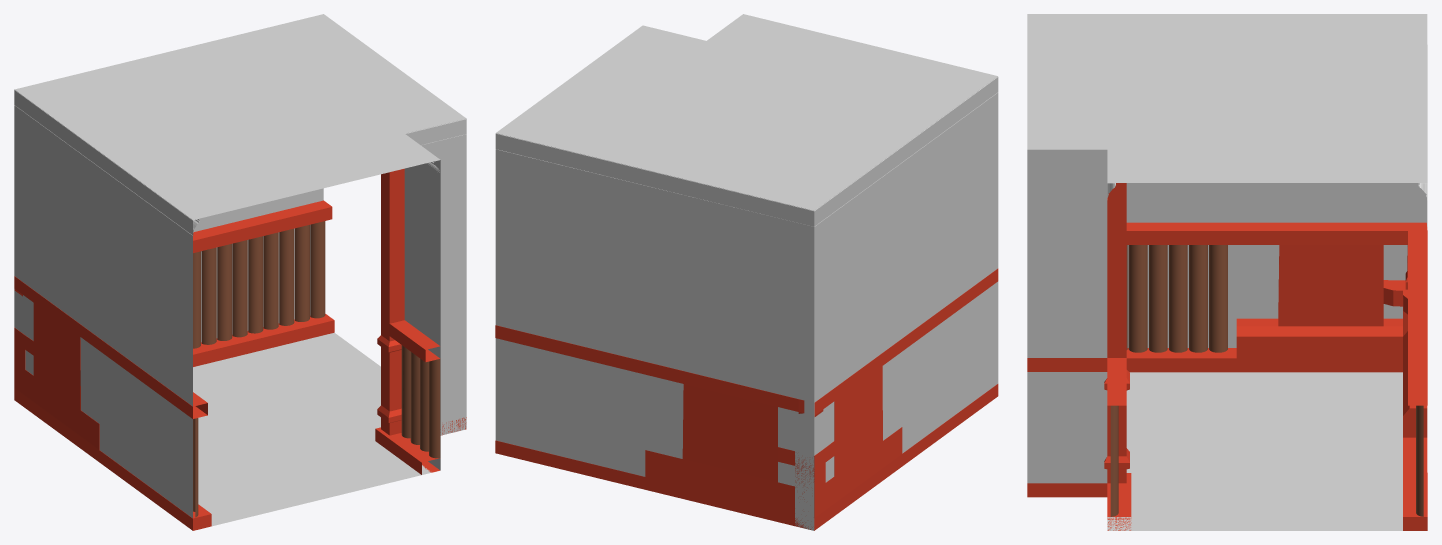
Rendered from Corner.fbx.
3 views of the same model, side by side, from view 1: azimuth 30°, elevation 25°; view 2: azimuth 150°, elevation 25°; view 3: azimuth 270°, elevation 25° (orthographic). The views are drawn at different scales.
Visible parts, largest first — view 1: Corner; view 2: Corner; view 3: Corner.
Boxes of the visible parts, x1,y1,x2,y2 form: Corner: (14,14,466,530); Corner: (495,14,998,530); Corner: (1027,14,1427,530).
Size of the model in its own units: 2.5 by 2.4 by 2.5.
